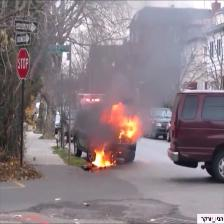fire: (81, 99, 150, 180)
